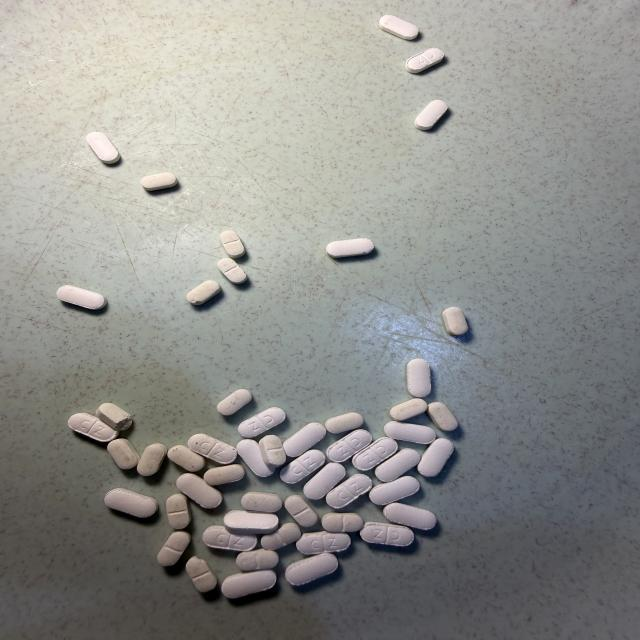pill: (286, 554, 338, 585), (176, 474, 222, 509), (326, 474, 372, 508), (352, 437, 398, 471), (221, 570, 276, 598), (105, 488, 158, 517), (280, 450, 325, 483), (375, 449, 420, 482), (68, 413, 119, 442), (304, 463, 345, 499), (188, 434, 237, 464), (283, 423, 326, 457), (238, 407, 285, 438), (369, 476, 419, 505), (327, 430, 372, 462), (237, 439, 274, 477), (418, 438, 454, 477), (383, 503, 436, 529), (203, 526, 257, 551), (360, 522, 414, 546), (224, 511, 278, 534), (297, 532, 350, 555), (57, 285, 106, 309), (186, 556, 217, 593), (384, 422, 436, 444), (158, 531, 190, 566), (86, 132, 120, 164), (261, 523, 301, 550), (285, 495, 318, 527), (107, 438, 140, 470), (137, 443, 167, 476), (167, 445, 205, 471), (96, 403, 132, 430), (415, 100, 447, 130), (326, 238, 374, 258), (406, 48, 444, 73), (379, 15, 418, 39), (236, 549, 278, 571), (407, 359, 431, 397), (217, 389, 252, 415), (166, 494, 191, 529), (428, 402, 458, 431), (259, 435, 286, 467), (241, 492, 282, 513), (390, 398, 427, 421), (204, 464, 244, 485), (187, 280, 220, 305), (325, 412, 363, 433), (322, 513, 363, 532), (218, 258, 247, 284), (220, 230, 246, 258), (443, 307, 468, 335), (141, 172, 177, 191)
